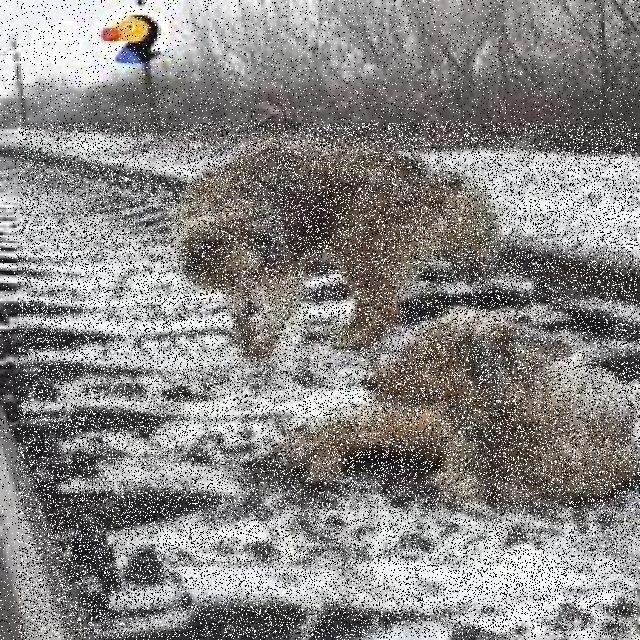danger: (254, 317, 640, 546), (148, 151, 520, 326)
rail: (19, 124, 637, 638)
